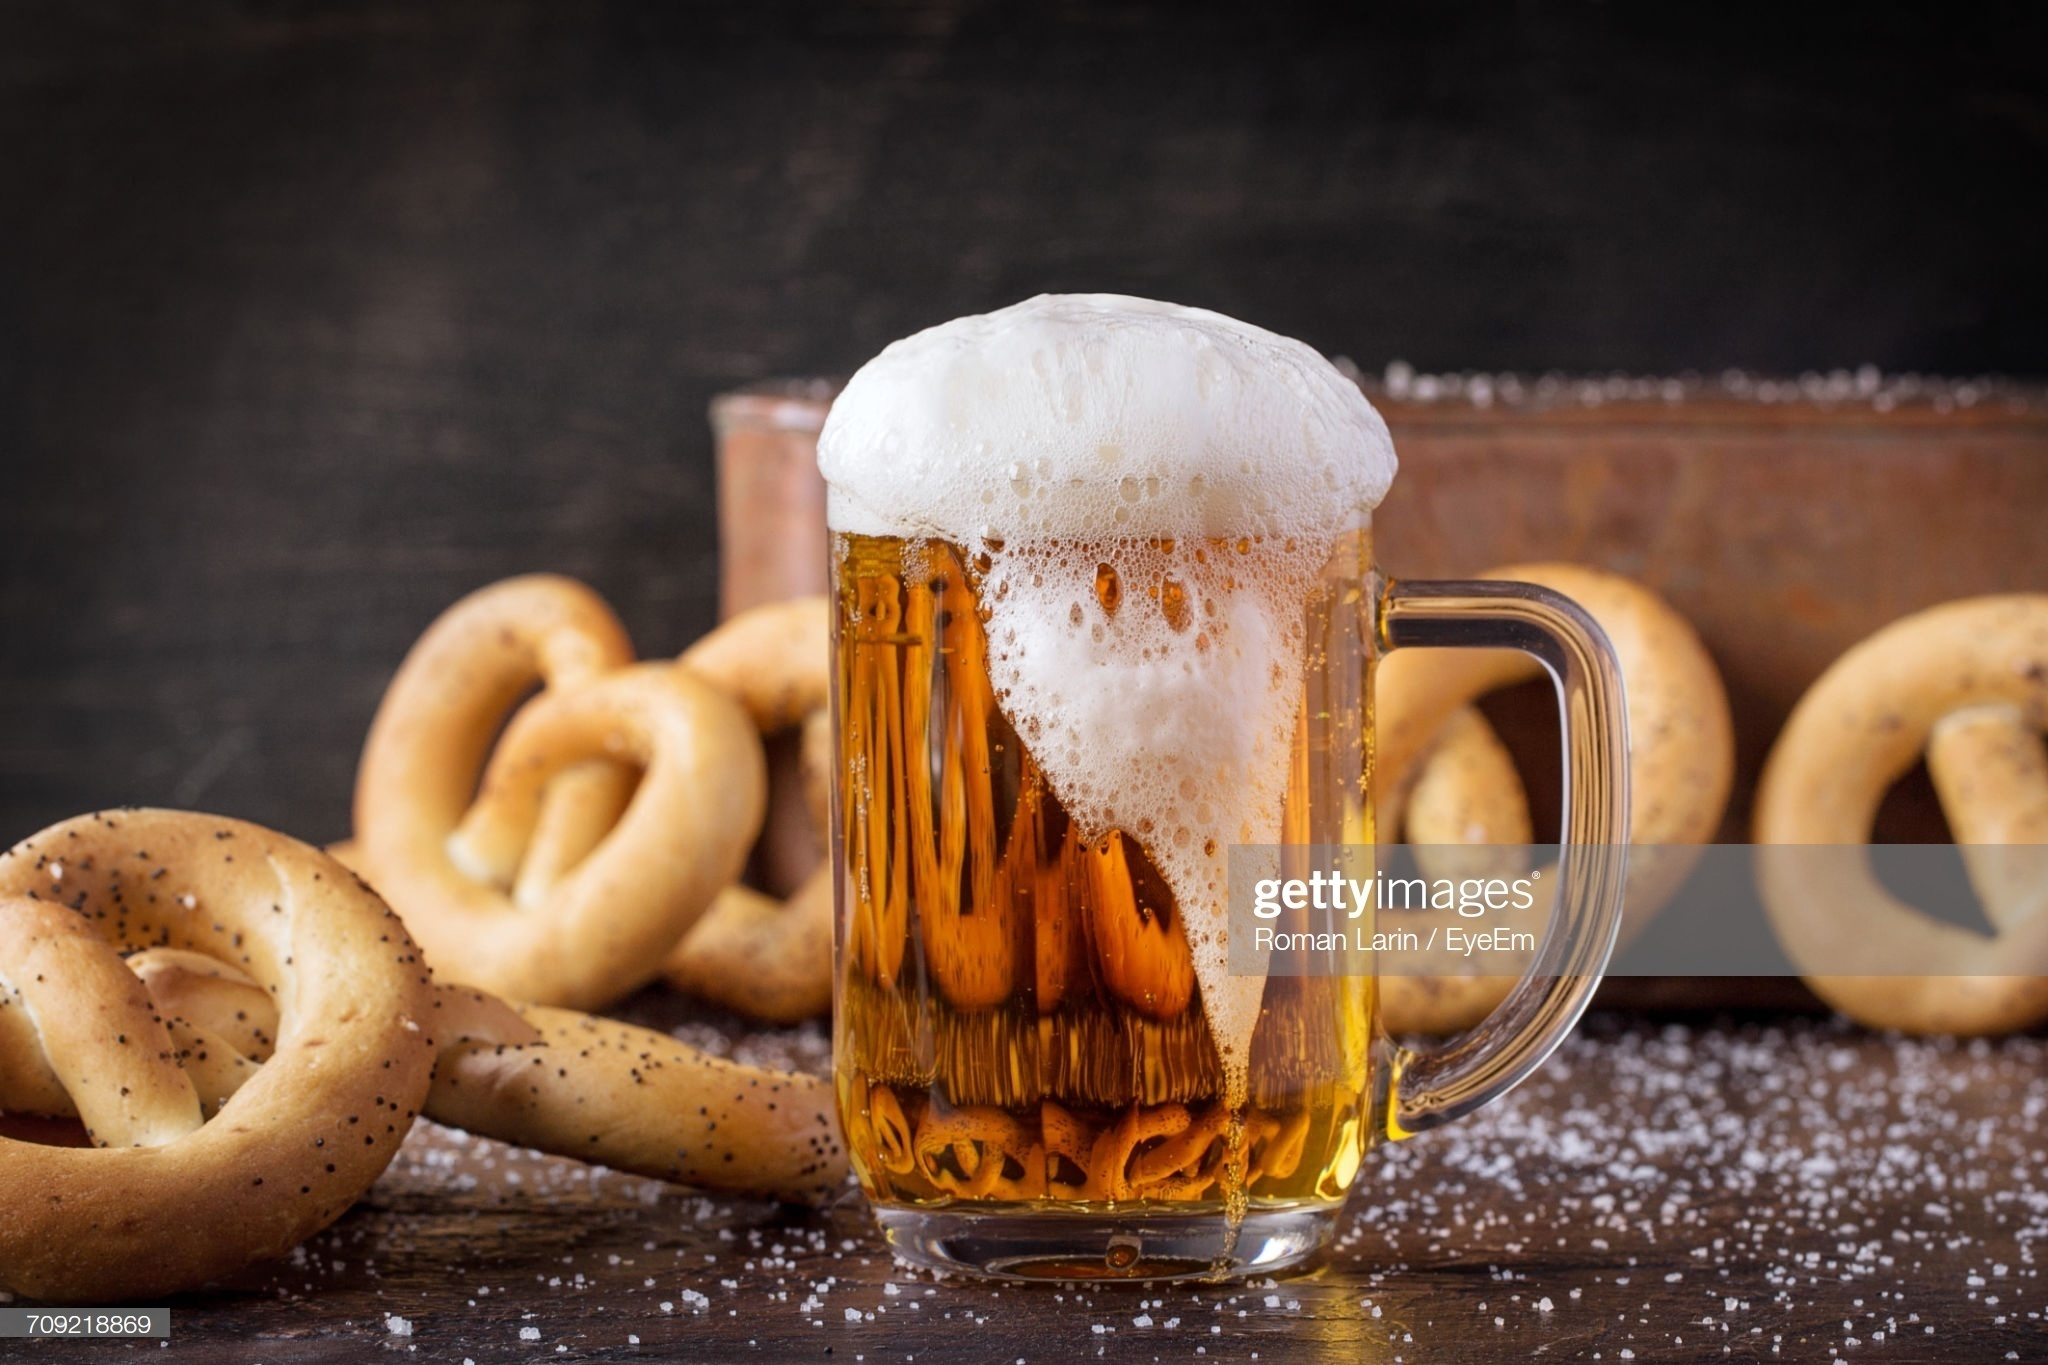whiskey: (836, 382, 1399, 1283)
